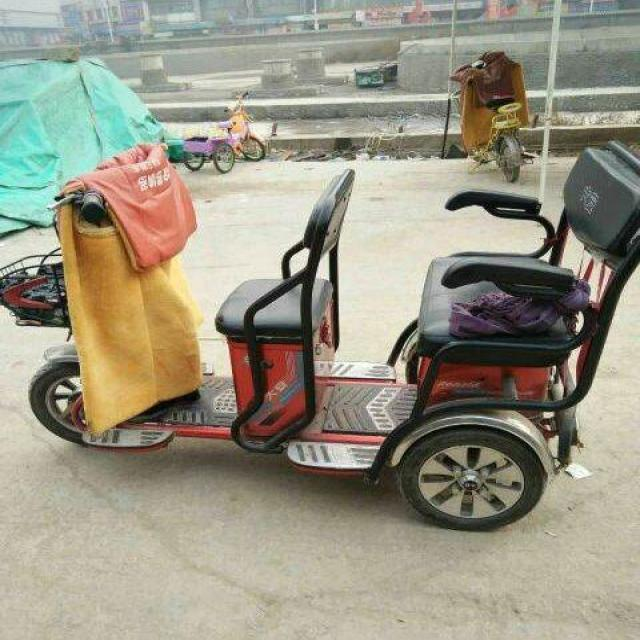motorbike: (449, 47, 536, 181)
tricycle: (0, 140, 637, 527)
